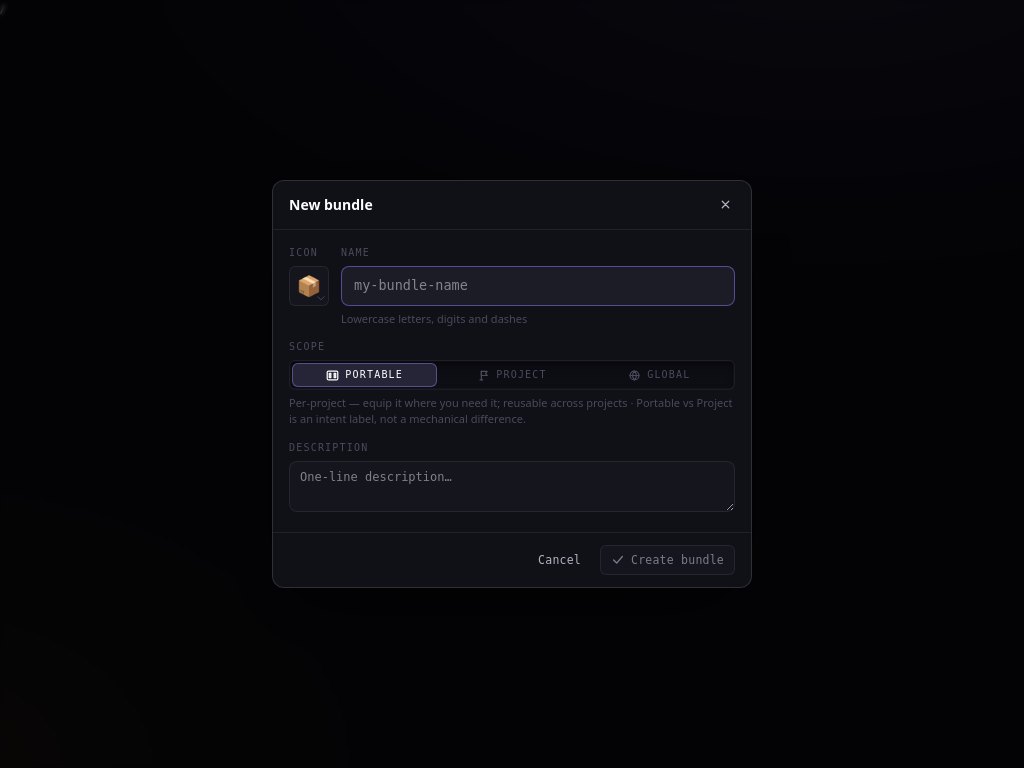
it: NewBundleSheet › still creates + navigates when the auto-sync reports findings
Type "warny" into the field with placeholder "my-bundle-name" at {"x": 538, "y": 286}, box left=341, top=266, right=735, bottom=306
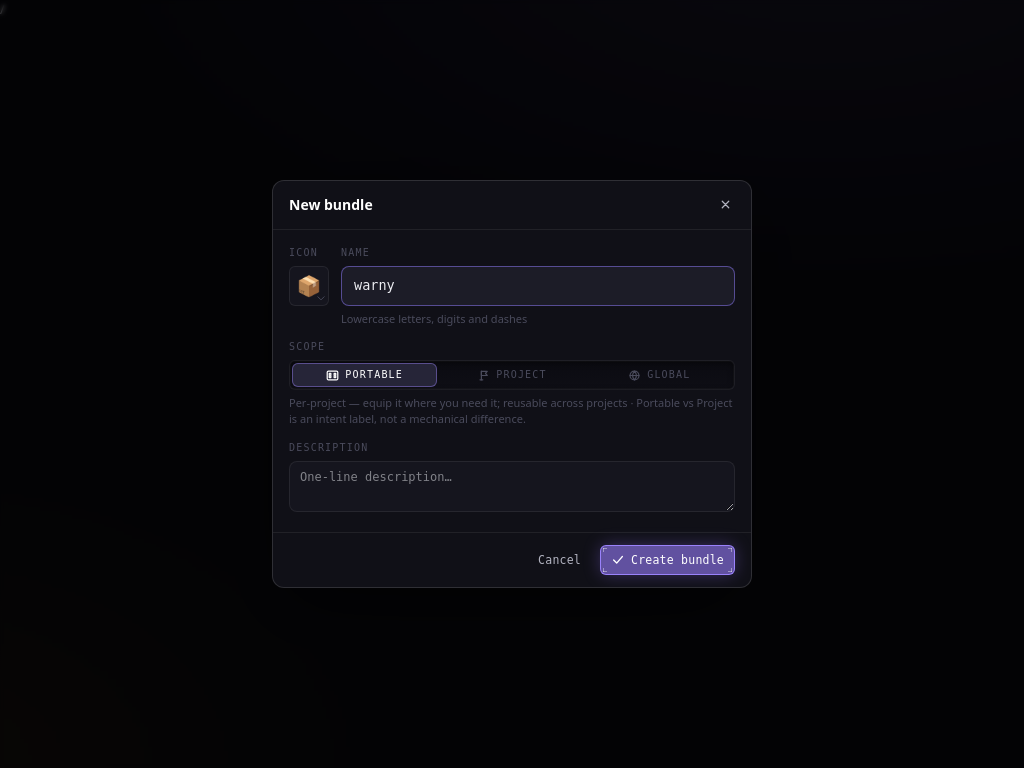
Click the button "Create bundle" at {"x": 668, "y": 560}, box left=600, top=545, right=735, bottom=575
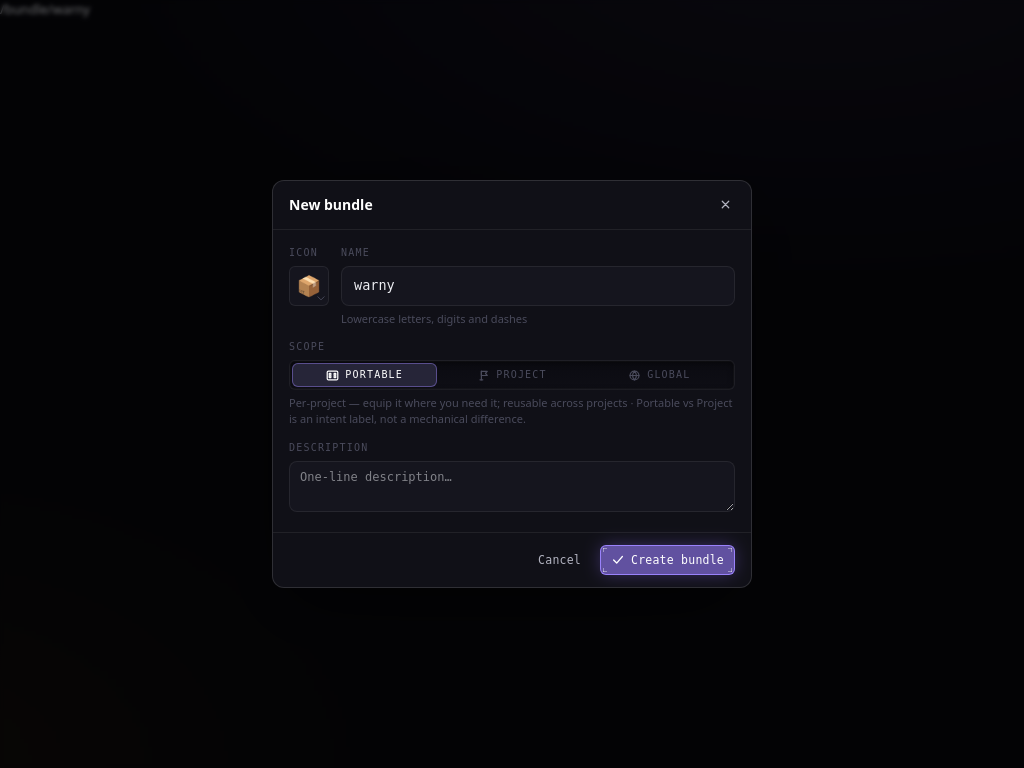
Result: the text with test id "loc" reads "/bundle/warny" at left=0, top=0, right=90, bottom=18
